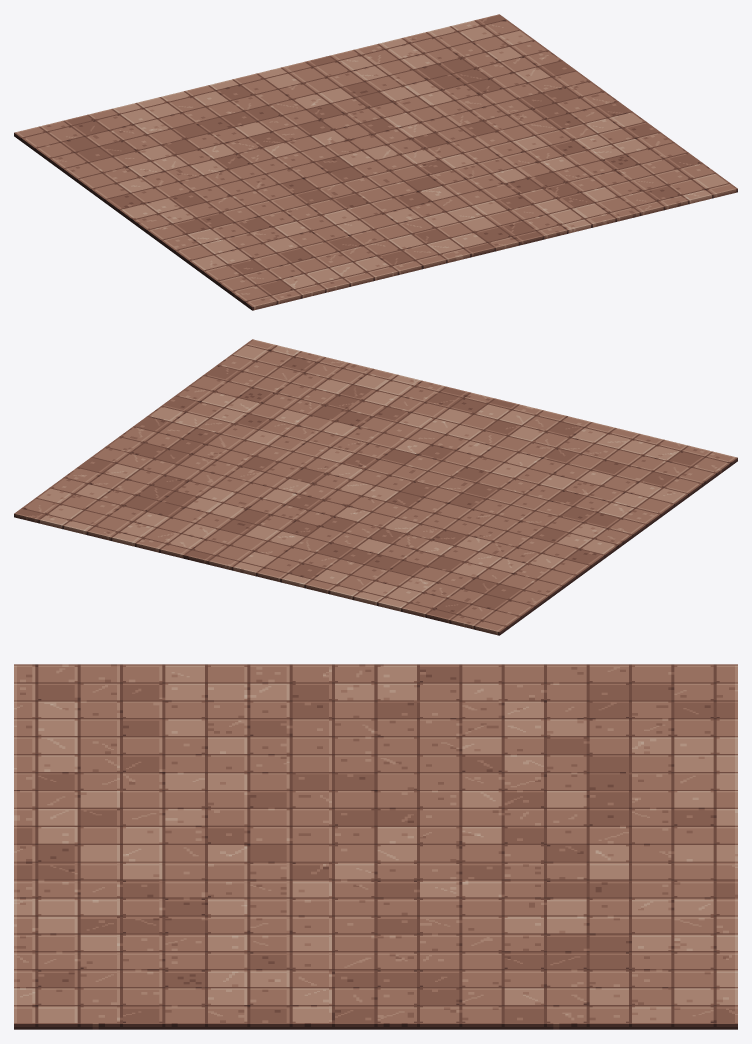
File: floor.glb
The picture shows the model from 3 angles, top to bottom: view 1: azimuth 30°, elevation 25°; view 2: azimuth 150°, elevation 25°; view 3: azimuth 270°, elevation 25°; orthographic projection. The views are drawn at different scales.
Parts seen in each view (by area): view 1: Floor; view 2: Floor; view 3: Floor.
Part boxes in pixels (x1=…): Floor: x1=14, y1=14, x2=737, y2=310; Floor: x1=14, y1=339, x2=737, y2=635; Floor: x1=14, y1=664, x2=737, y2=1029.
Size of the model in its own units: 11.24 by 0.08 by 9.56.
